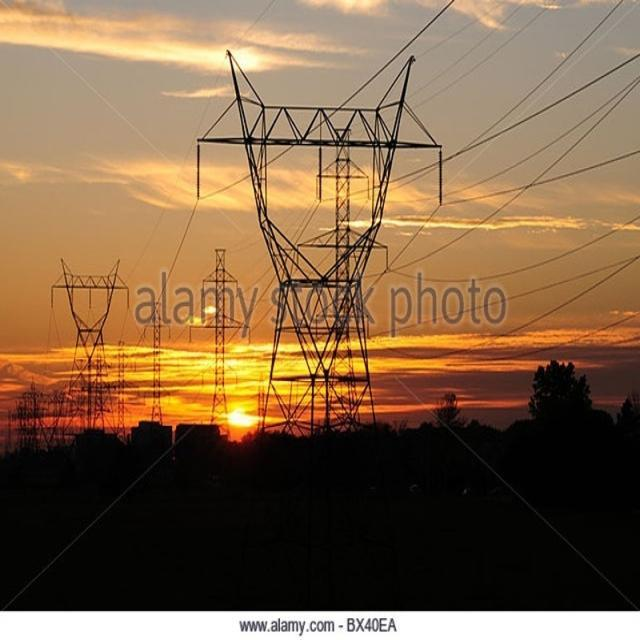non-critical vegetation: (187, 40, 460, 441), (41, 250, 135, 438), (187, 236, 245, 435), (142, 304, 172, 427)
